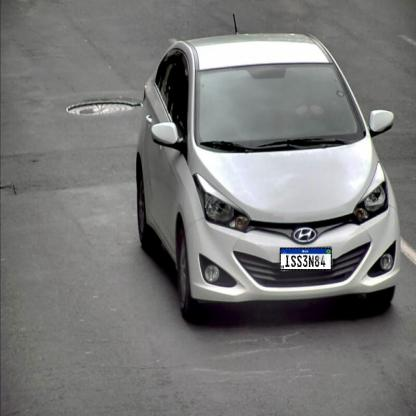PlacaM: (280, 248, 332, 270)
